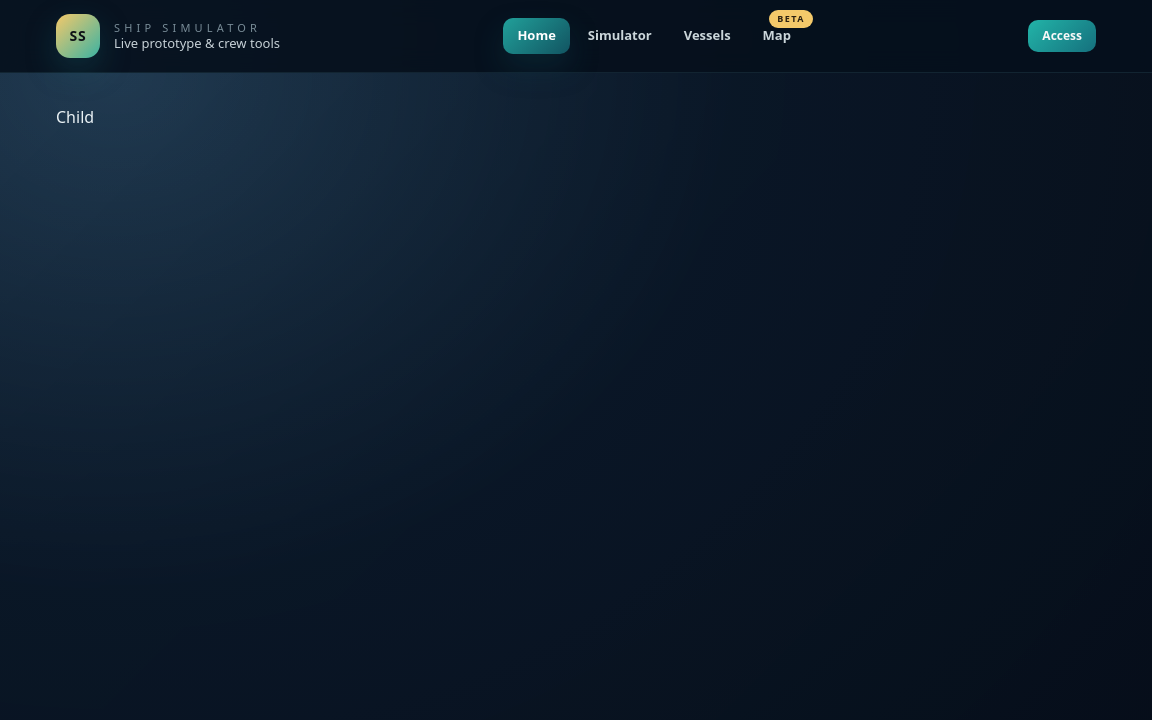
Test: Layout navigation › opens the access modal when Access is clicked
Step 1. Click the button "Access" → (1062, 36), box [1028, 20, 1096, 52]
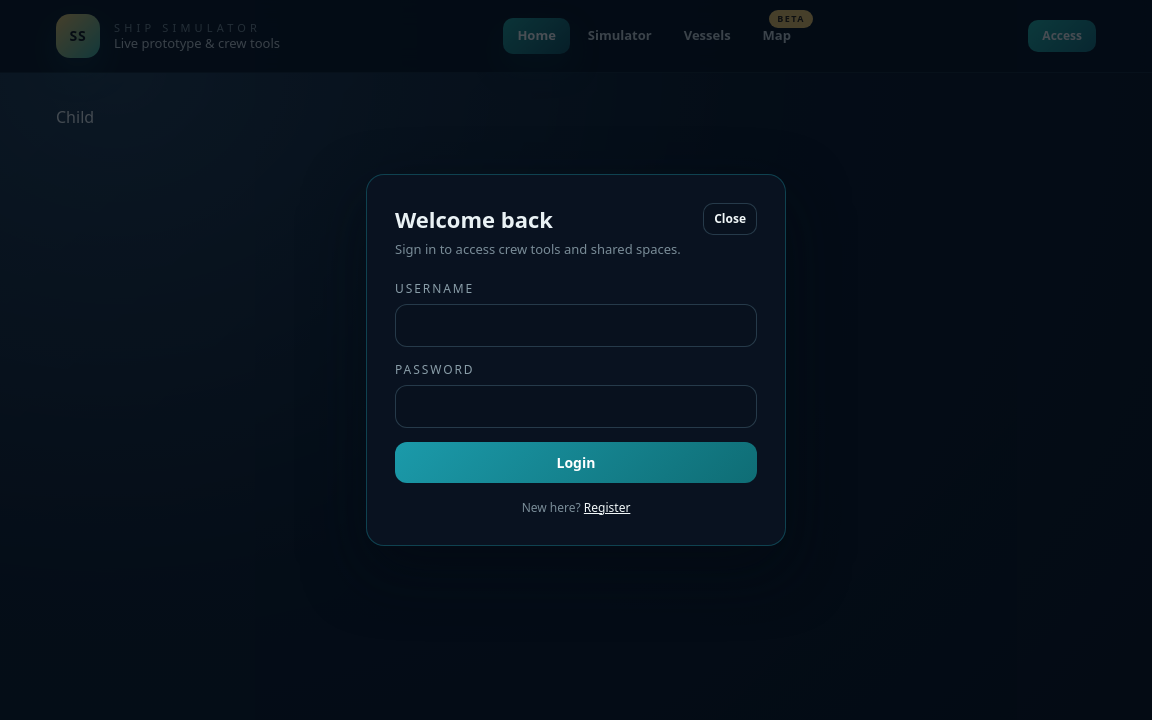
Check: the text "Welcome back" is shown, box [395, 204, 553, 234]
